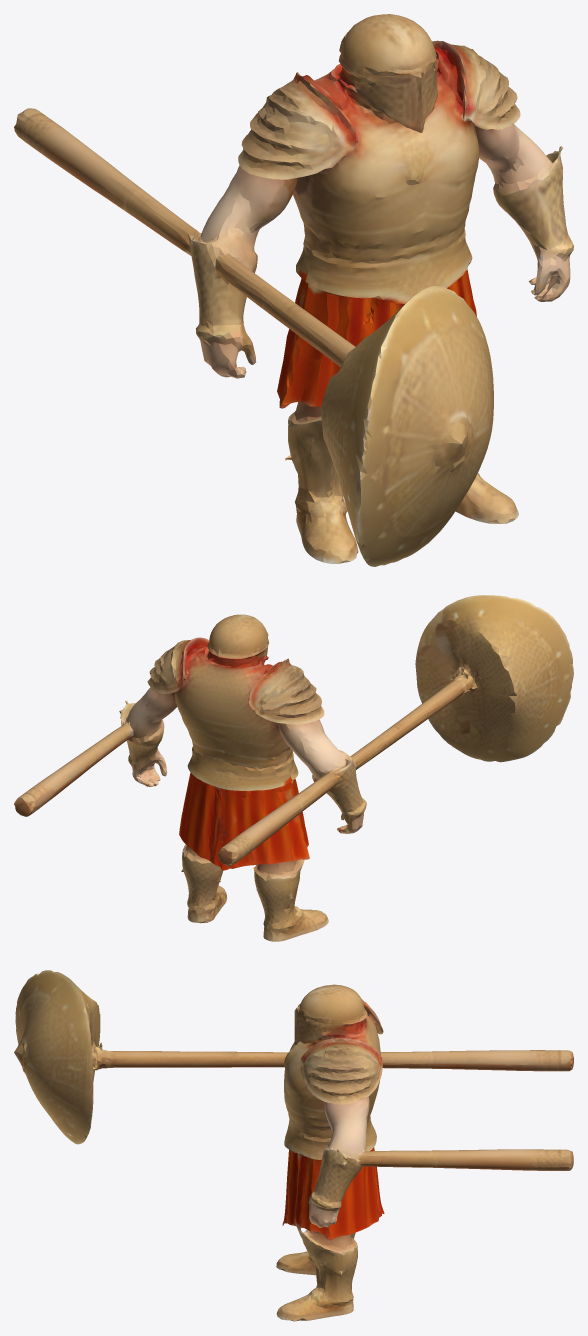
The model's file is gladiador.glb.
3 views of the same model, one above another, from view 1: azimuth 30°, elevation 25°; view 2: azimuth 150°, elevation 25°; view 3: azimuth 270°, elevation 25° (orthographic). The views are drawn at different scales.
Parts seen in each view (by area): view 1: gladiador; view 2: gladiador; view 3: gladiador.
Boxes of the visible parts, x1,y1,x2,y2 form: gladiador: (14,14,573,566); gladiador: (14,595,573,941); gladiador: (14,970,573,1321).
Size of the model in its own units: 1.13 by 1.13 by 1.89.
Materials: 1 (1 with a texture image).
